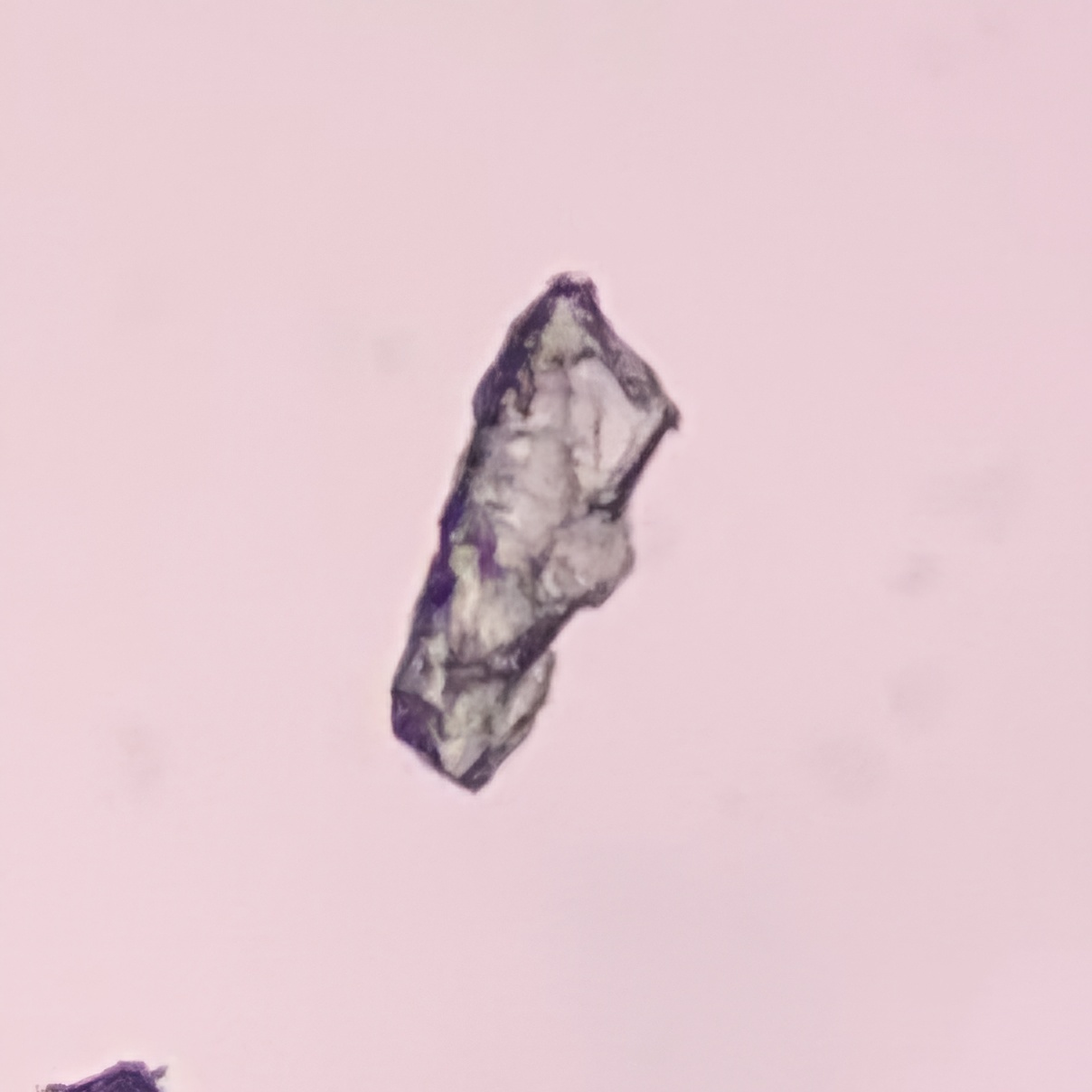microplastic: (379, 259, 685, 808)
